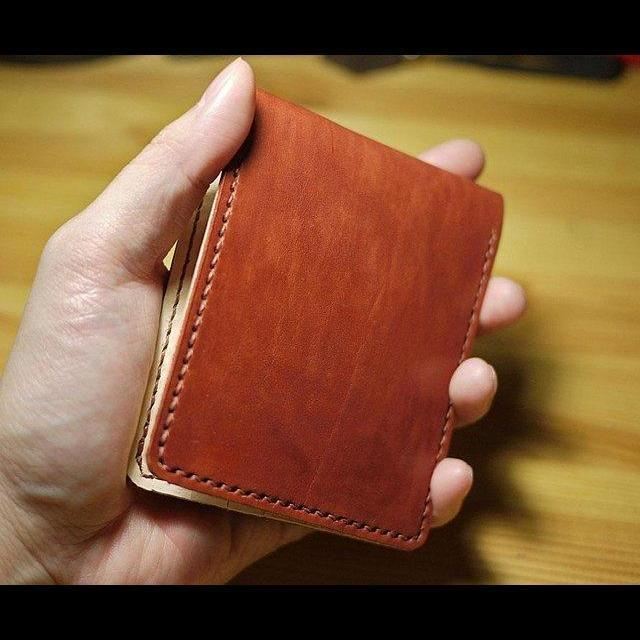wallet: (129, 88, 505, 550)
